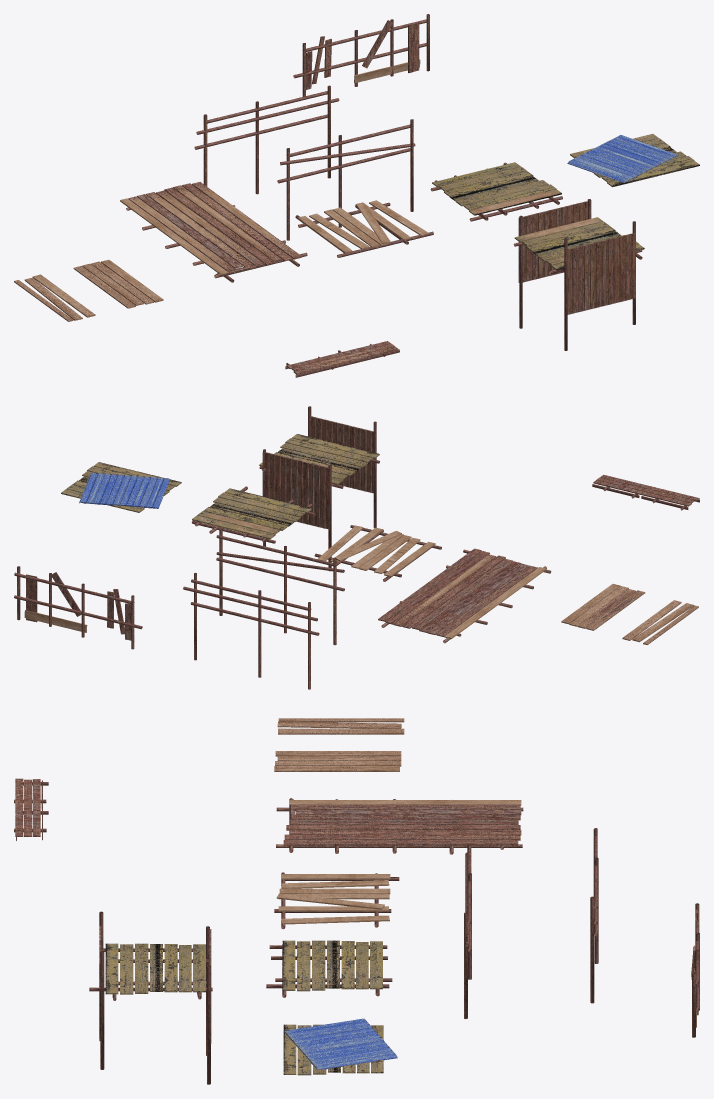
Rendered from Walkable.fbx.
3 renders of one model, top to bottom at view 1: azimuth 30°, elevation 25°; view 2: azimuth 150°, elevation 25°; view 3: azimuth 270°, elevation 25°, orthographic. The views are drawn at different scales.
Visible parts, largest first — view 1: Group10, Group6, Group8, Group9, Group1, Group7, Group2, Group3, Group5, Group11, Group4; view 2: Group10, Group6, Group8, Group9, Group1, Group7, Group2, Group3, Group5, Group11, Group4; view 3: Group6, Group10, Group9, Group8, Group7, Group5, Group4, Group11, Group2, Group3, Group1.
Part boxes in pixels (box(x1,y1,x2,y2)): Group10: box(513, 199, 644, 350); Group6: box(120, 182, 307, 282); Group8: box(430, 162, 562, 221); Group9: box(567, 134, 699, 187); Group1: box(293, 14, 429, 96); Group7: box(295, 200, 433, 257); Group2: box(194, 85, 339, 194); Group3: box(277, 119, 415, 240); Group5: box(73, 259, 163, 308); Group11: box(285, 341, 399, 377); Group4: box(14, 274, 95, 321); Group10: box(259, 406, 379, 571); Group6: box(378, 548, 551, 643); Group8: box(191, 486, 315, 543); Group9: box(61, 462, 181, 512); Group1: box(14, 566, 142, 649); Group7: box(314, 525, 441, 581); Group2: box(183, 573, 319, 689); Group3: box(216, 528, 344, 645); Group5: box(561, 584, 645, 630); Group11: box(592, 474, 699, 510); Group4: box(622, 600, 698, 644); Group6: box(276, 798, 523, 854); Group10: box(89, 911, 212, 1084); Group9: box(283, 1018, 397, 1075); Group8: box(266, 940, 392, 997); Group7: box(274, 872, 399, 929); Group5: box(274, 751, 401, 771); Group4: box(277, 718, 404, 734); Group11: box(14, 778, 48, 840); Group2: box(590, 828, 598, 1003); Group3: box(464, 843, 471, 1018); Group1: box(691, 903, 699, 1037).
Size of the model in its own units: 1125 by 227 by 916.
